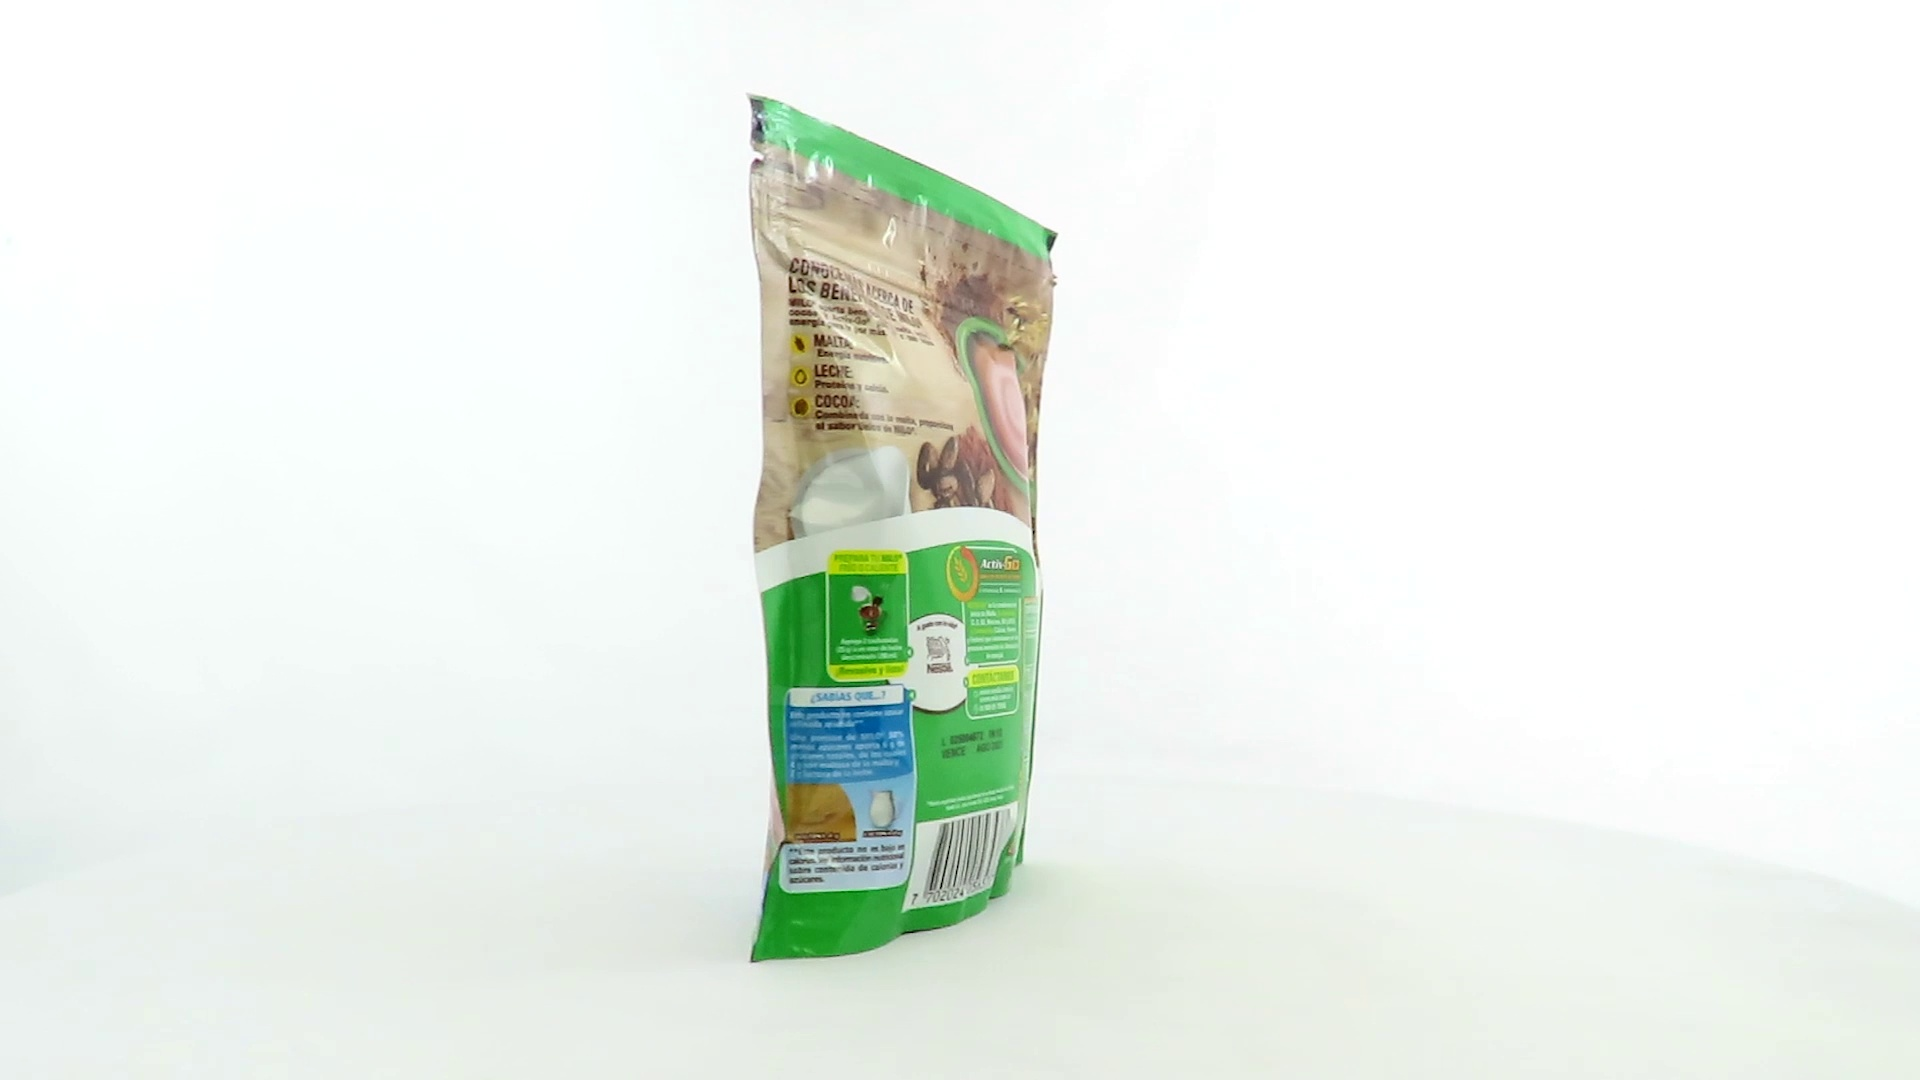COL0170205DYP20000: (741, 87, 1064, 969)
